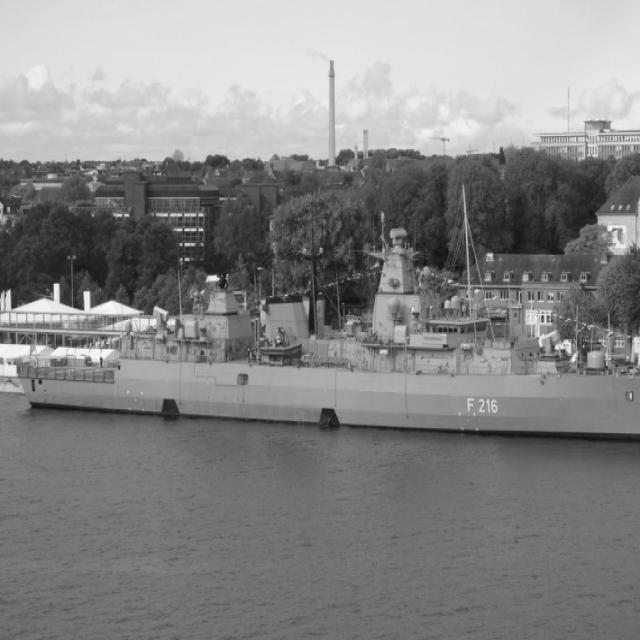Fragata: (8, 221, 640, 447)
